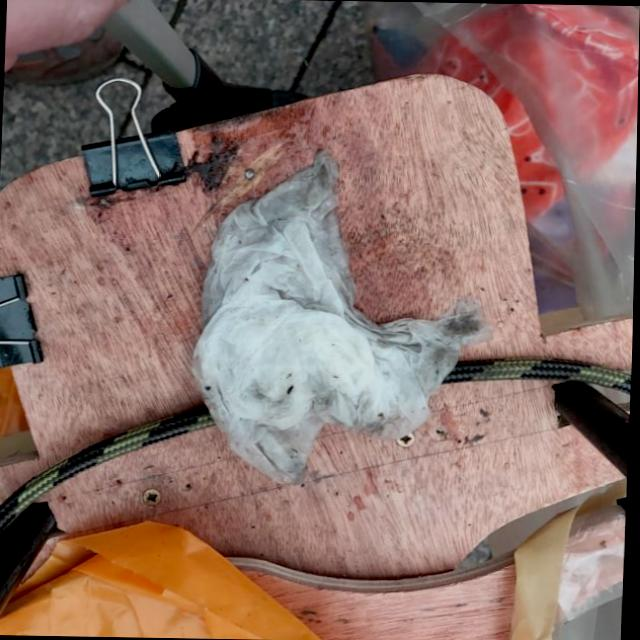Paper: (175, 141, 498, 492)
